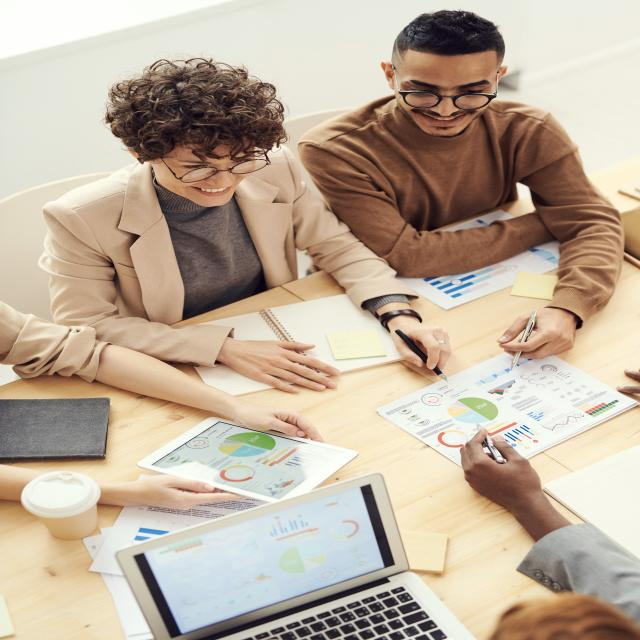adult: (46, 62, 453, 388), (298, 8, 626, 365)
